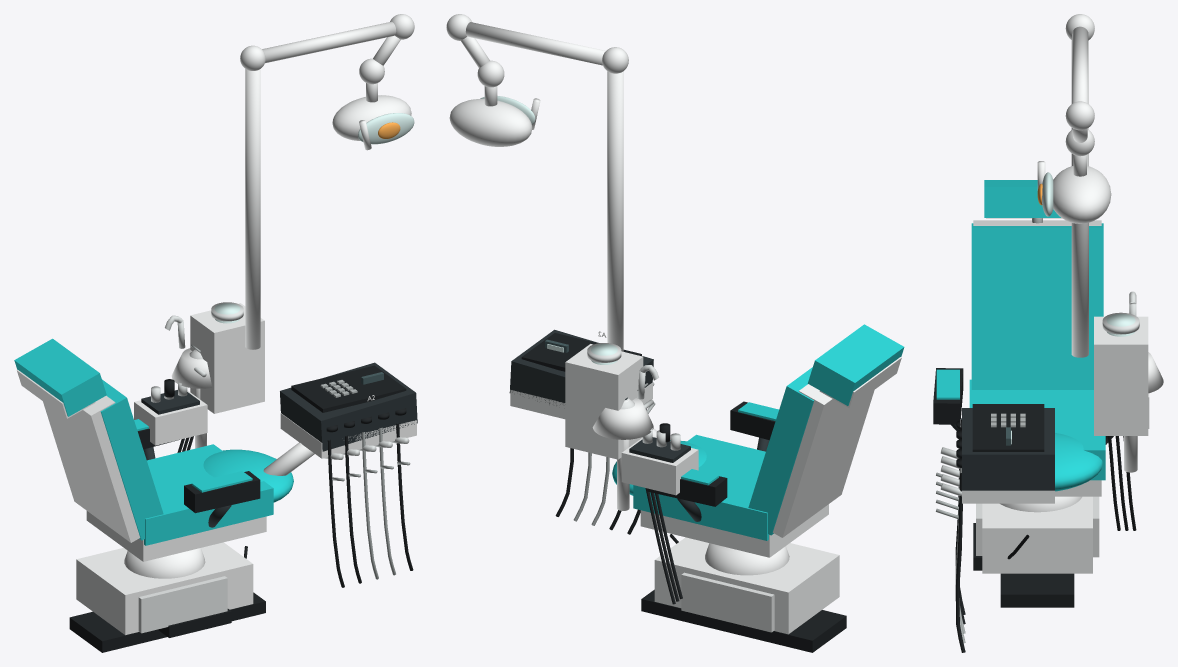
The model's file is Wozo a2 dental (1).glb.
3 views of the same model, side by side, from view 1: azimuth 30°, elevation 25°; view 2: azimuth 150°, elevation 25°; view 3: azimuth 270°, elevation 25° (orthographic). The views are drawn at different scales.
Parts seen in each view (by area): view 1: Main Pedestal, Backrest Shell, Seat Cushion, Water Unit Housing, Instrument Console, Light Column, Backrest Cushion, Headrest, Base Side Strip L, Seat Shell, Console Top Panel, Pedal Base (+17 smaller); view 2: Main Pedestal, Backrest Shell, Seat Cushion, Water Unit Housing, Light Column, Backrest Cushion, Headrest, Base Side Strip R, Pedal Base, Lamp Body, Seat Shell, Assistant Console (+10 smaller); view 3: Backrest Cushion, Main Pedestal, Water Unit Housing, Instrument Console, Seat Cushion, Console Top Panel, Lamp Body, Pedal Base, Light Column, Headrest, Seat Front Rounding, Console Lower Shell (+19 smaller).
Part boxes in pixels (x1,y1,x2,y2): Main Pedestal: (76,542,253,635); Backrest Shell: (43,395,140,542); Seat Cushion: (144,444,273,545); Water Unit Housing: (190,303,264,413); Instrument Console: (280,362,417,451); Light Column: (245,69,260,349); Backrest Cushion: (100,379,163,540); Headrest: (14,338,106,416); Base Side Strip L: (138,576,227,633); Seat Shell: (86,511,266,561); Console Top Panel: (291,365,406,412); Pedal Base: (69,592,265,652); Main Pedestal: (654,537,839,634); Backrest Shell: (773,384,874,537); Seat Cushion: (633,434,768,540); Water Unit Housing: (565,344,643,459); Light Column: (607,71,623,351); Backrest Cushion: (748,367,814,535); Headrest: (807,324,904,405); Base Side Strip R: (681,572,774,632); Pedal Base: (641,589,846,652); Lamp Body: (449,99,532,146); Seat Shell: (640,504,828,557); Assistant Console: (621,438,698,495); Backrest Cushion: (971,223,1103,389); Main Pedestal: (982,496,1092,573); Water Unit Housing: (1094,316,1148,435); Instrument Console: (962,408,1054,490); Seat Cushion: (969,379,1105,480); Console Top Panel: (972,404,1044,451); Lamp Body: (1053,166,1111,223); Pedal Base: (1000,573,1074,607); Light Column: (1071,40,1088,357); Headrest: (984,180,1060,217); Seat Front Rounding: (1055,433,1102,491); Console Lower Shell: (962,490,1054,503).
Size of the model in its own units: 2.65 by 3.44 by 1.19.
